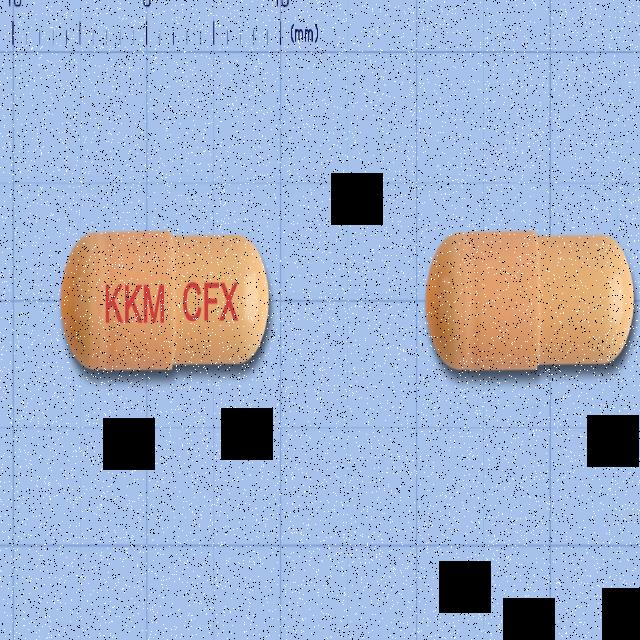Cefick Cap: (59, 224, 274, 381)
